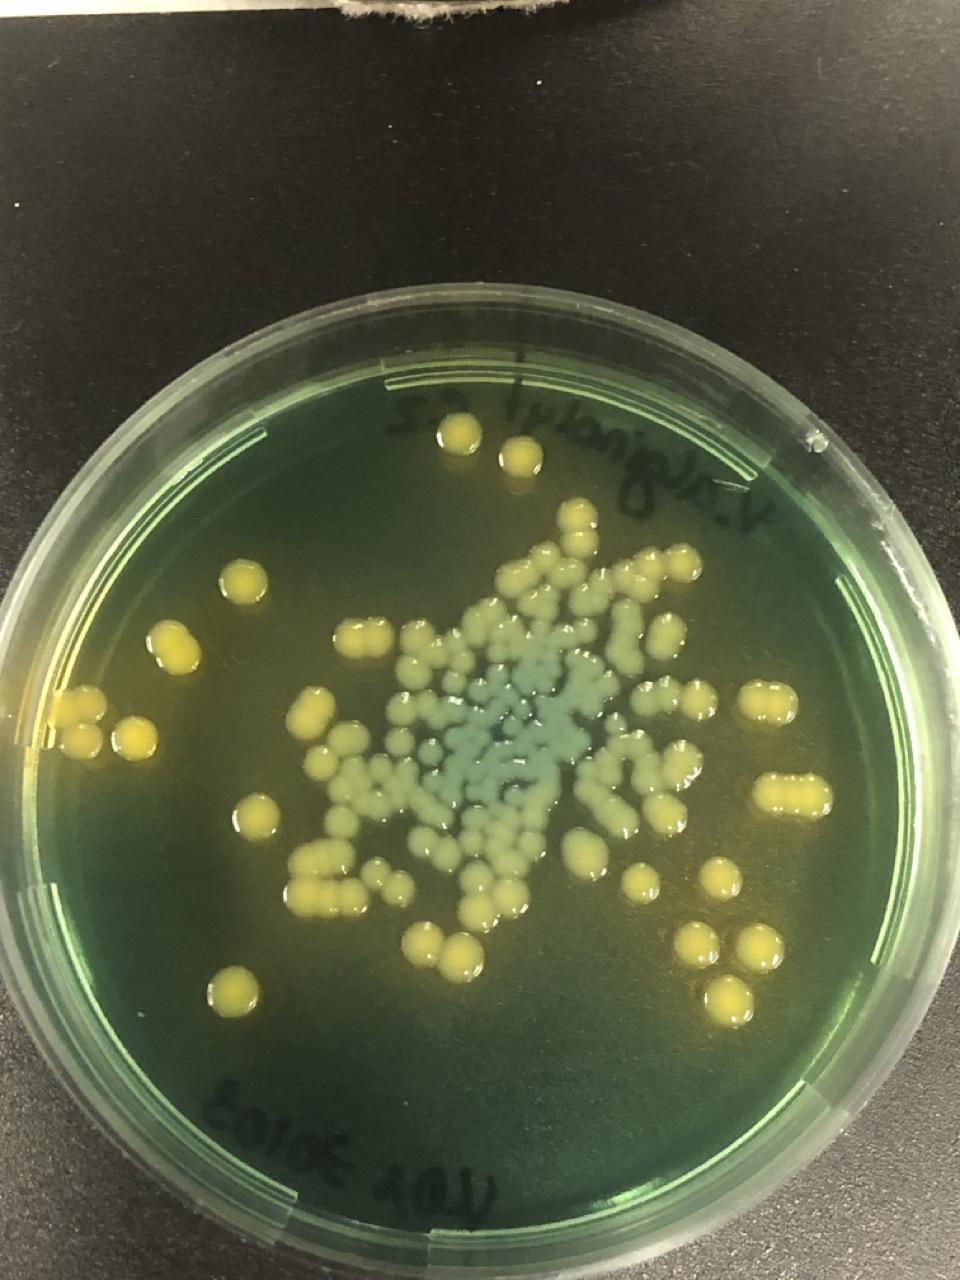valgino: (560, 714, 688, 834), (302, 748, 410, 876), (456, 806, 547, 934), (394, 618, 510, 702), (282, 858, 414, 922), (609, 544, 699, 634), (408, 806, 486, 870), (46, 684, 106, 762), (401, 924, 481, 980), (614, 612, 686, 674), (630, 674, 719, 720), (750, 772, 834, 818), (494, 542, 562, 596), (284, 684, 335, 742), (147, 620, 199, 674), (334, 614, 394, 660), (738, 680, 798, 724), (518, 584, 560, 638), (594, 794, 642, 840), (561, 499, 598, 558), (385, 690, 440, 727), (566, 830, 608, 876), (501, 698, 534, 756), (581, 672, 620, 719), (740, 927, 782, 969), (676, 922, 718, 964), (618, 862, 660, 904), (236, 795, 278, 837), (114, 716, 156, 758), (222, 561, 264, 603), (501, 436, 543, 478), (439, 412, 481, 454), (708, 980, 750, 1021), (210, 971, 252, 1012), (662, 739, 704, 780), (700, 858, 742, 898), (462, 600, 508, 635), (568, 582, 602, 617), (417, 799, 455, 830), (553, 620, 598, 646), (564, 648, 605, 676), (337, 719, 371, 752), (460, 780, 500, 806), (416, 740, 442, 766), (385, 730, 411, 756), (394, 756, 418, 780), (531, 671, 555, 695), (538, 779, 562, 802), (502, 784, 526, 806), (442, 728, 464, 750), (422, 771, 444, 792)
